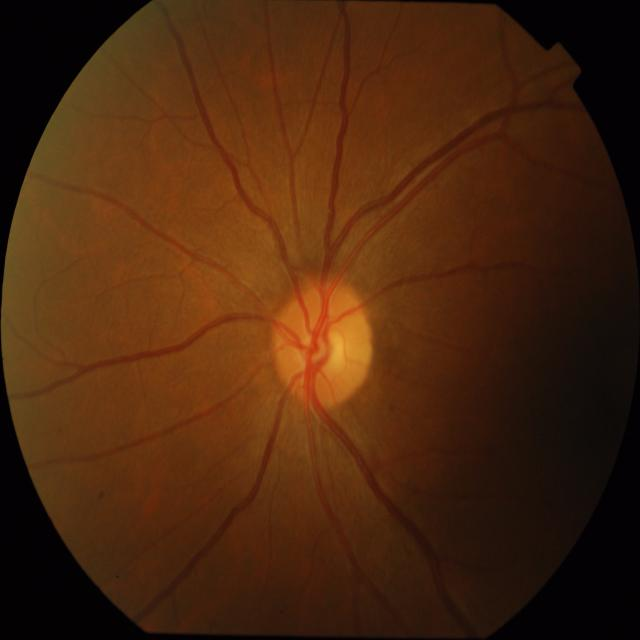OC: (295, 317, 348, 381)
OD: (272, 283, 374, 406)
